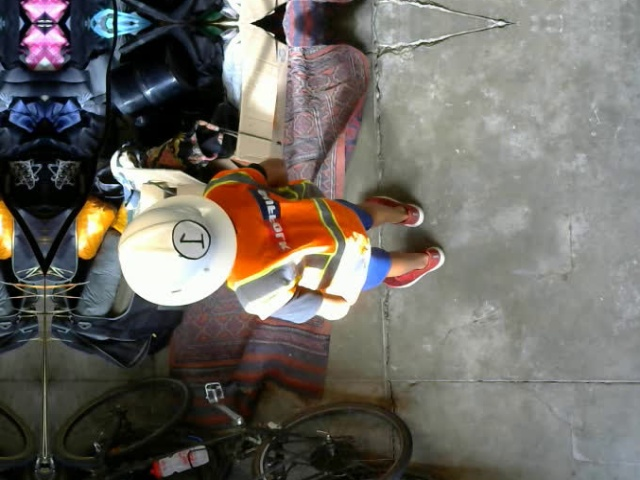one: (170, 218, 209, 259)
